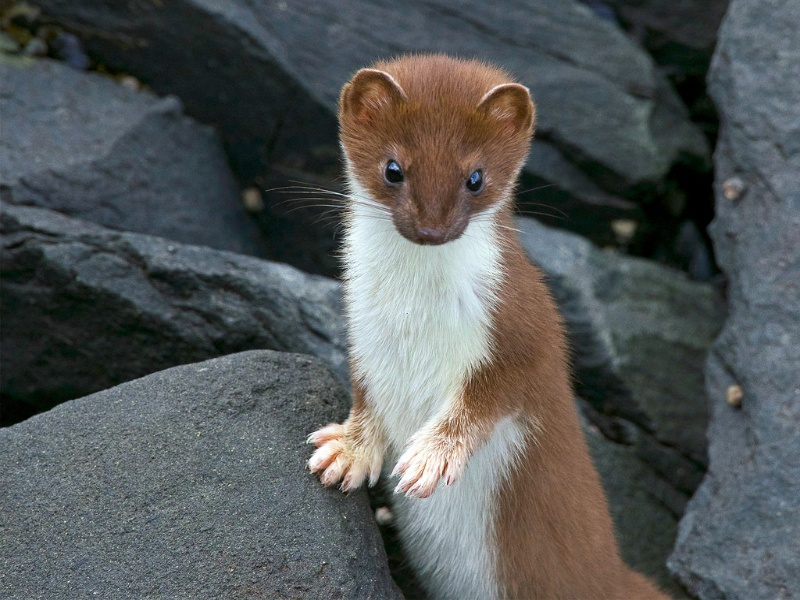minkish: (303, 48, 674, 600)
